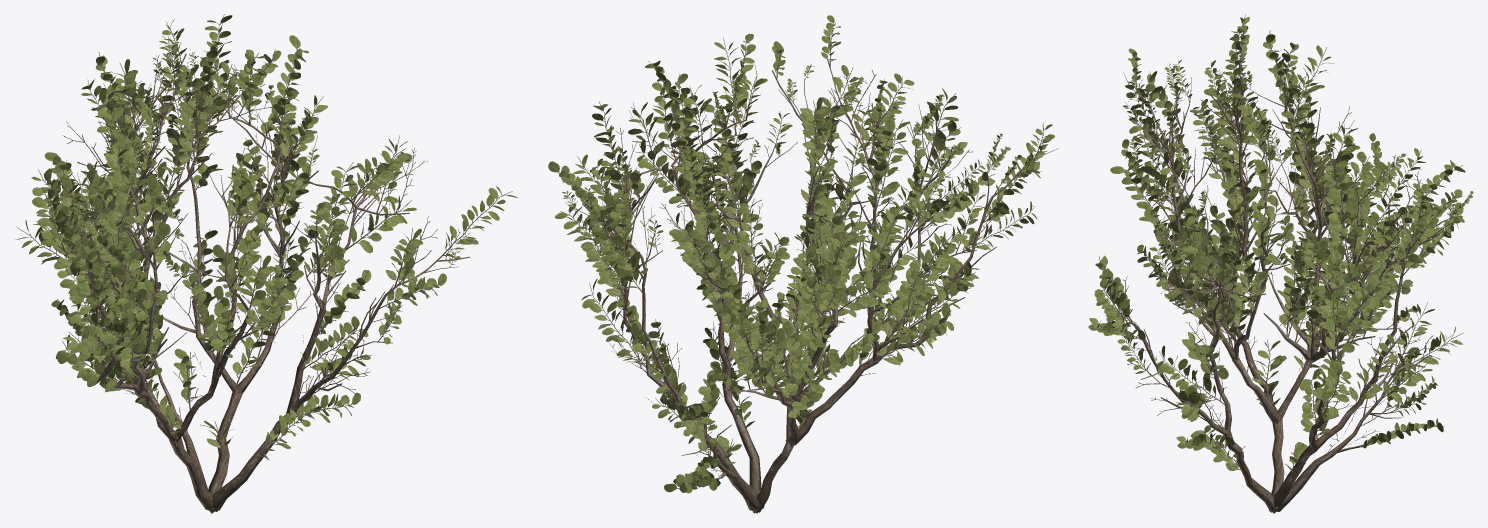
File: UE_searsia_lucida_c.gltf
3 views of the same model, side by side, from view 1: azimuth 30°, elevation 25°; view 2: azimuth 150°, elevation 25°; view 3: azimuth 270°, elevation 25° (orthographic). The views are drawn at different scales.
Parts seen in each view (by area): view 1: searsia_lucida_c; view 2: searsia_lucida_c; view 3: searsia_lucida_c.
Boxes of the visible parts, bbox=[...] form: searsia_lucida_c: bbox=[15, 14, 517, 513]; searsia_lucida_c: bbox=[548, 15, 1058, 513]; searsia_lucida_c: bbox=[1088, 14, 1473, 513].
Size of the model in its own units: 1.51 by 1.68 by 1.25.
3 materials, 3 textured.
